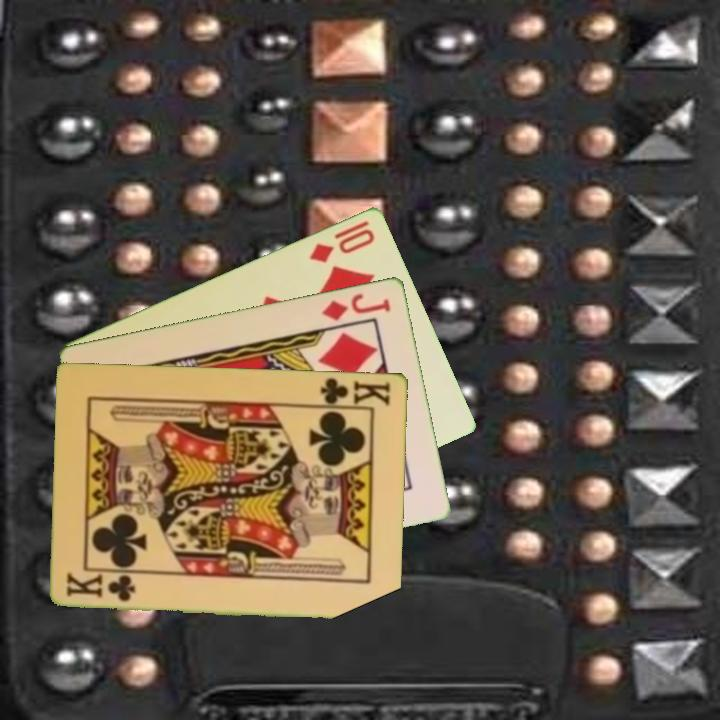10d: (306, 224, 378, 266)
Jd: (318, 289, 394, 323)
Kc: (313, 373, 394, 410), (63, 571, 139, 604)
